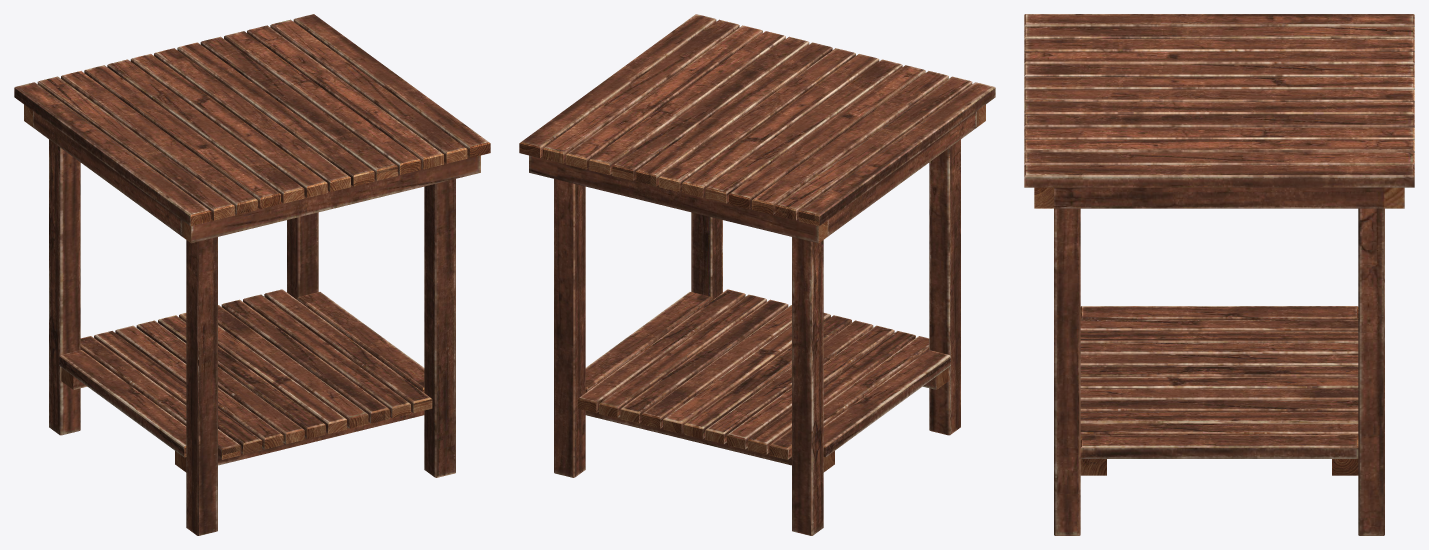
The model's file is Tabletto.fbx.
The picture shows the model from 3 angles, left to right: view 1: azimuth 30°, elevation 25°; view 2: azimuth 150°, elevation 25°; view 3: azimuth 270°, elevation 25°; orthographic projection. The views are drawn at different scales.
Parts seen in each view (by area): view 1: Tabletto-; view 2: Tabletto-; view 3: Tabletto-.
Boxes of the visible parts, <box> form: Tabletto-: <box>14,14,490,535</box>; Tabletto-: <box>519,14,995,535</box>; Tabletto-: <box>1024,14,1414,535</box>.
Bounding box in the file's own units: 26.24 × 28.05 × 26.69.
